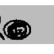correct: (2, 18, 32, 42)
